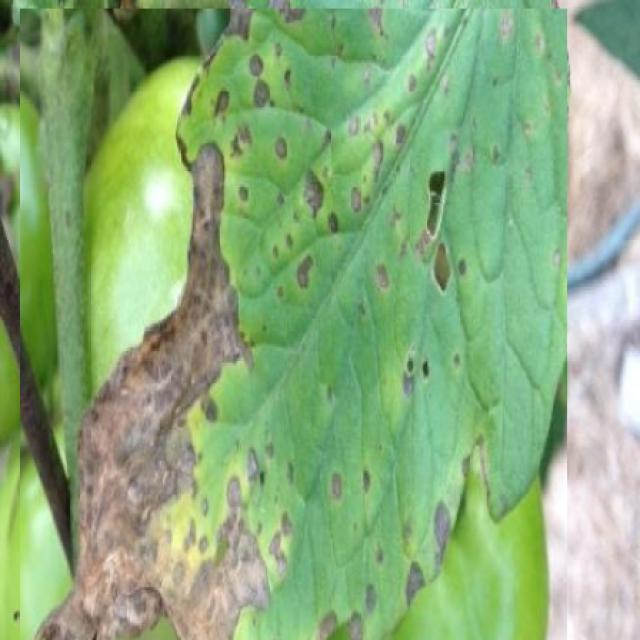Septoria: (20, 8, 567, 640)
